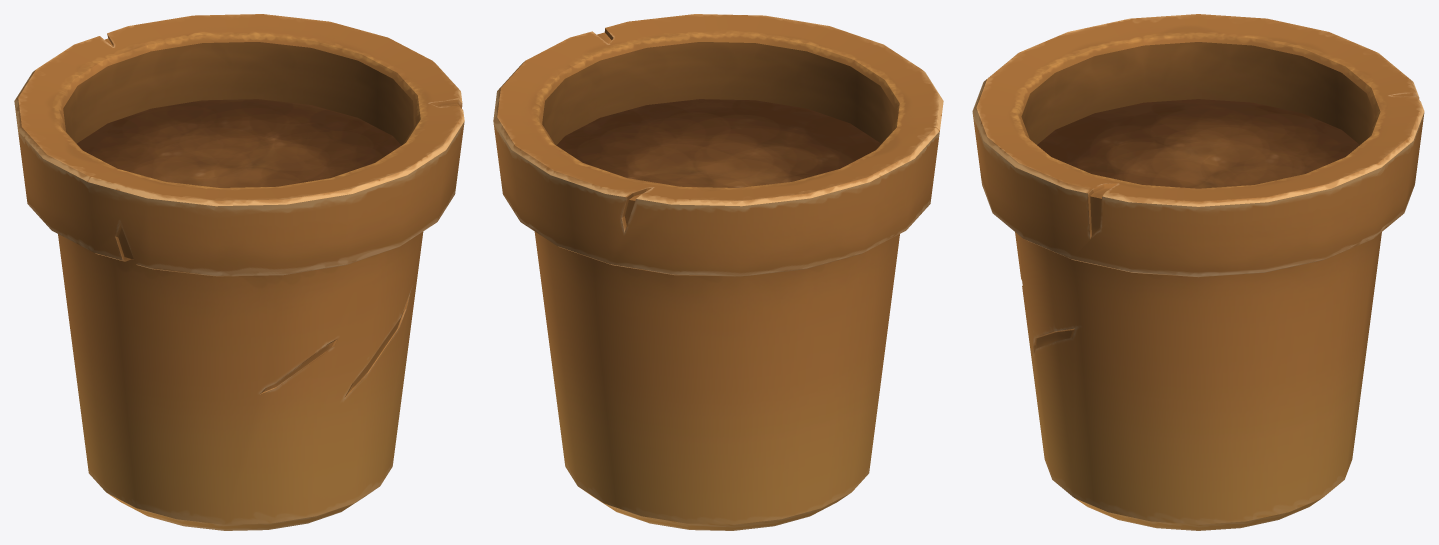
File: POT_MODEL.fbx
The picture shows the model from 3 angles, left to right: view 1: azimuth 30°, elevation 25°; view 2: azimuth 150°, elevation 25°; view 3: azimuth 270°, elevation 25°; orthographic projection.
Visible parts, largest first — view 1: pCylinder1; view 2: pCylinder1; view 3: pCylinder1.
Boxes of the visible parts, box(x1,y1,x2,y2) form: pCylinder1: box(14, 14, 464, 530); pCylinder1: box(493, 14, 943, 530); pCylinder1: box(972, 14, 1424, 530).
Bounding box in the file's own units: 65.47 × 58.37 × 65.47.
